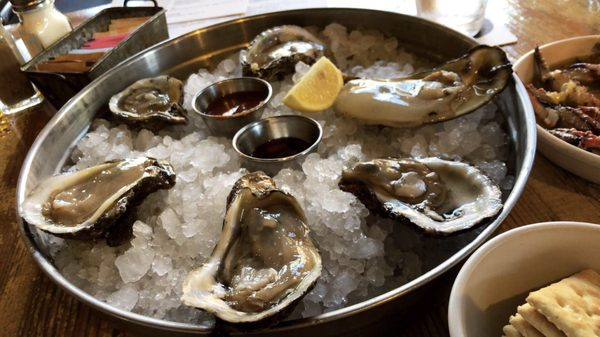pizza: (415, 0, 487, 38)
sushi: (447, 220, 600, 333), (515, 31, 600, 187), (233, 115, 322, 175), (193, 77, 273, 138)
taco: (282, 57, 344, 115)
